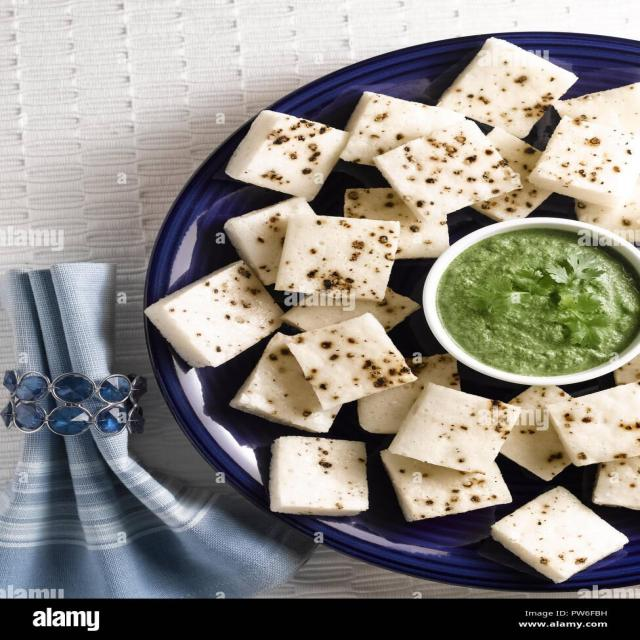dhokla: (159, 26, 640, 610)
